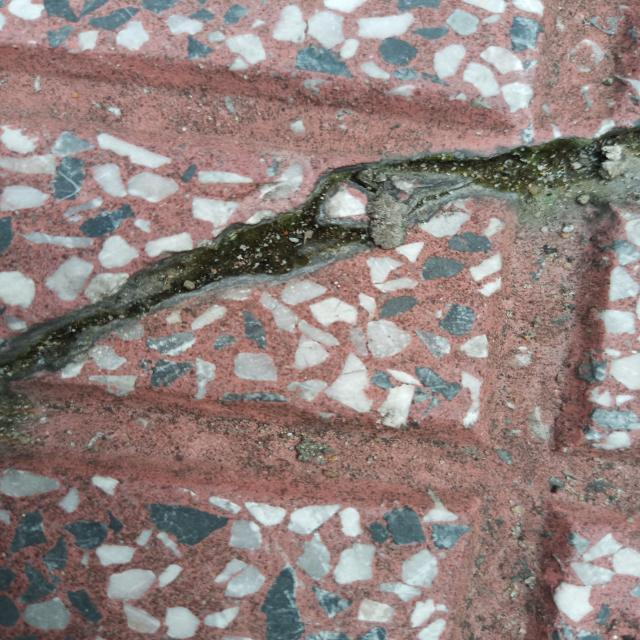diagonal crack: (0, 125, 639, 379)
